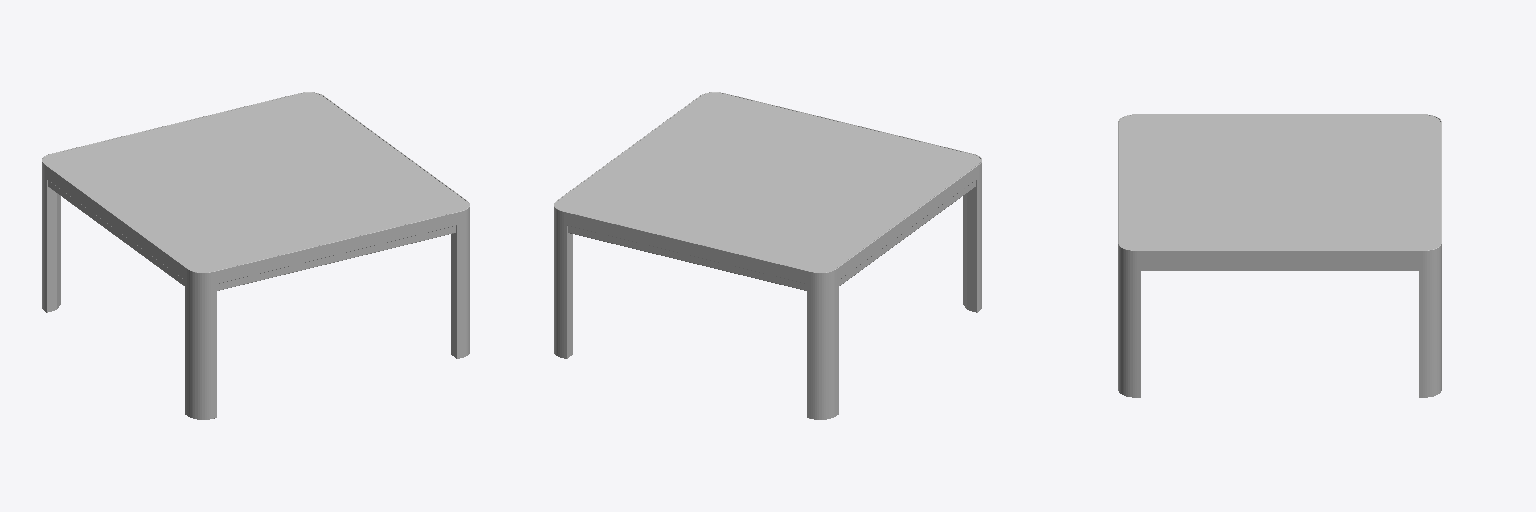
Rendered from table.obj.
The picture shows the model from 3 angles: view 1: azimuth 30°, elevation 25°; view 2: azimuth 150°, elevation 25°; view 3: azimuth 270°, elevation 25°; orthographic projection.
Visible parts, largest first — view 1: Cube, Cube.002_Cube.003; view 2: Cube, Cube.002_Cube.003; view 3: Cube, Cube.002_Cube.003.
Boxes of the visible parts, <box> form: Cube: <box>42,92,469,419</box>; Cube.002_Cube.003: <box>48,180,455,290</box>; Cube: <box>554,92,981,419</box>; Cube.002_Cube.003: <box>568,180,975,290</box>; Cube: <box>1118,114,1441,397</box>; Cube.002_Cube.003: <box>1141,264,1418,270</box>.
Size of the model in its own units: 0.7 by 0.351 by 0.7.